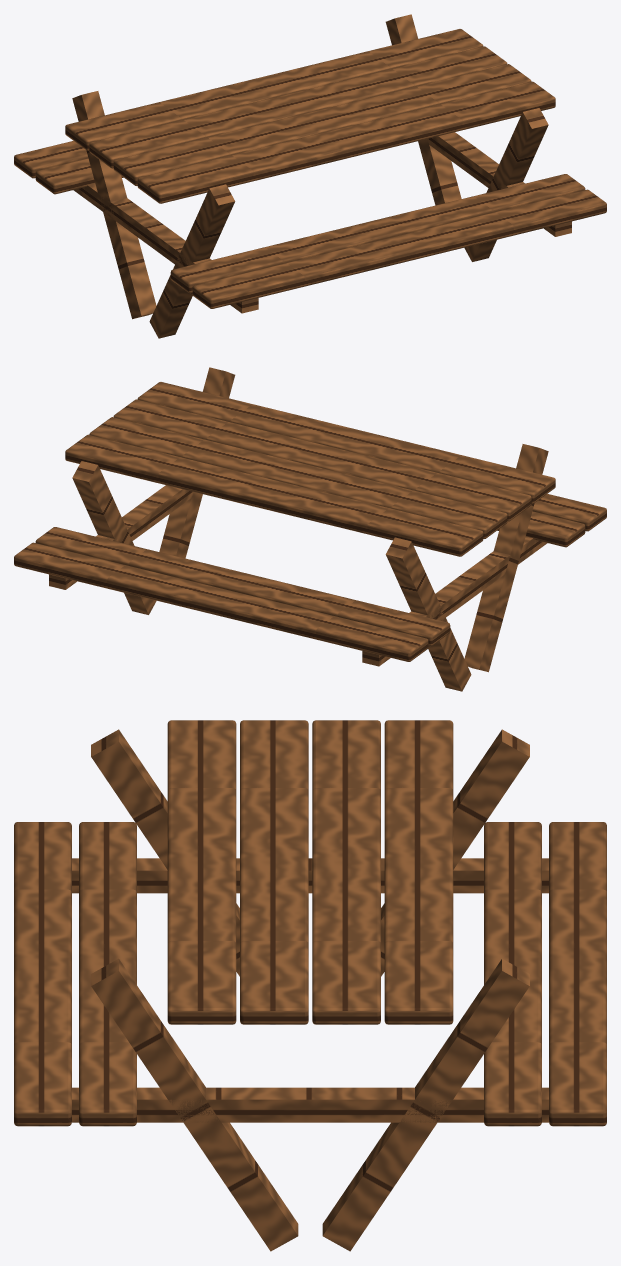
File: picnic.glb
3 renders of one model, top to bottom at view 1: azimuth 30°, elevation 25°; view 2: azimuth 150°, elevation 25°; view 3: azimuth 270°, elevation 25°, orthographic. The views are drawn at different scales.
Visible parts, largest first — view 1: picnic; view 2: picnic; view 3: picnic.
Boxes of the visible parts, x1,y1,x2,y2 form: picnic: (14, 14, 606, 338); picnic: (14, 367, 606, 691); picnic: (14, 720, 606, 1251).
Bounding box in the file's own units: 1.9 × 0.8569 × 1.64.
Materials: 1 (1 with a texture image).
